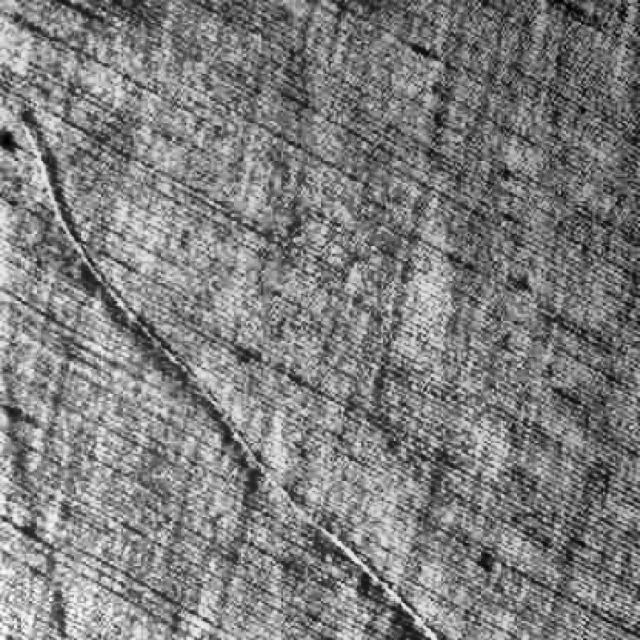objects: (2, 82, 443, 640)
